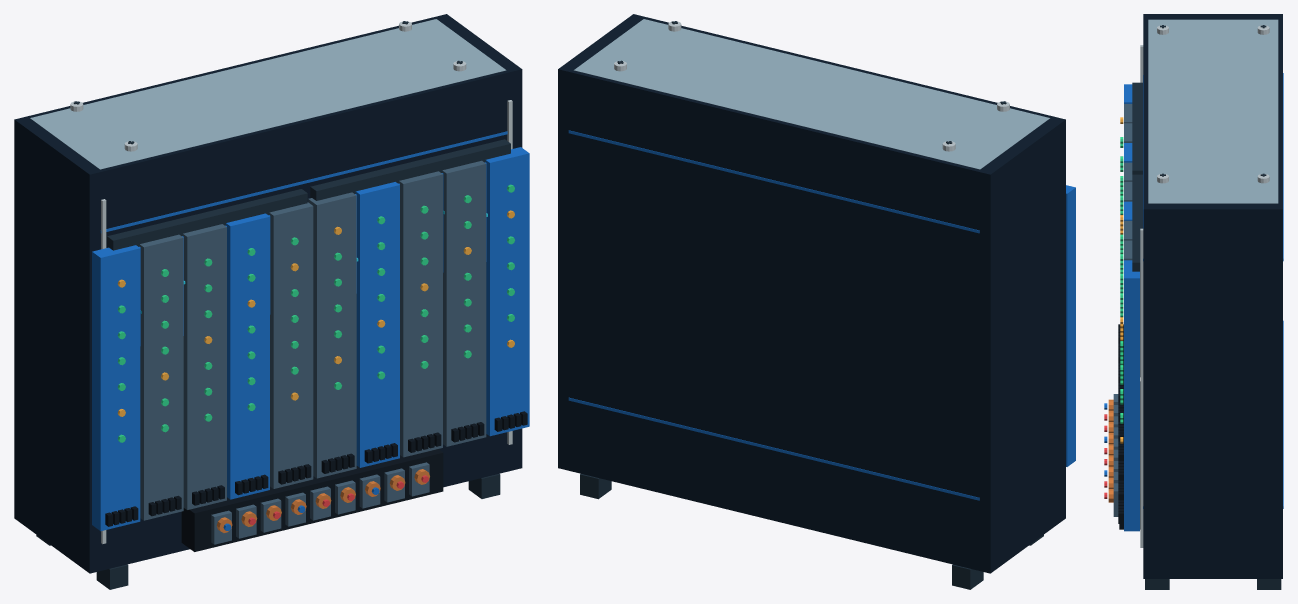
Rendered from 50_L73_CMPProcessPLCRack.fbx.
The picture shows the model from 3 angles, left to right: view 1: azimuth 30°, elevation 25°; view 2: azimuth 150°, elevation 25°; view 3: azimuth 270°, elevation 25°; orthographic projection. The views are drawn at different scales.
Parts seen in each view (by area): view 1: CMPProcessPLCRack; view 2: CMPProcessPLCRack; view 3: CMPProcessPLCRack.
Boxes of the visible parts, x1,y1,x2,y2 form: CMPProcessPLCRack: (14,14,529,589); CMPProcessPLCRack: (558,14,1075,589); CMPProcessPLCRack: (1104,14,1283,589).
Size of the model in its own units: 245 by 235 by 94.96.
